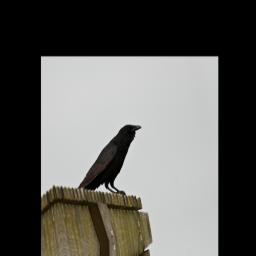Crow: (69, 119, 151, 211)
